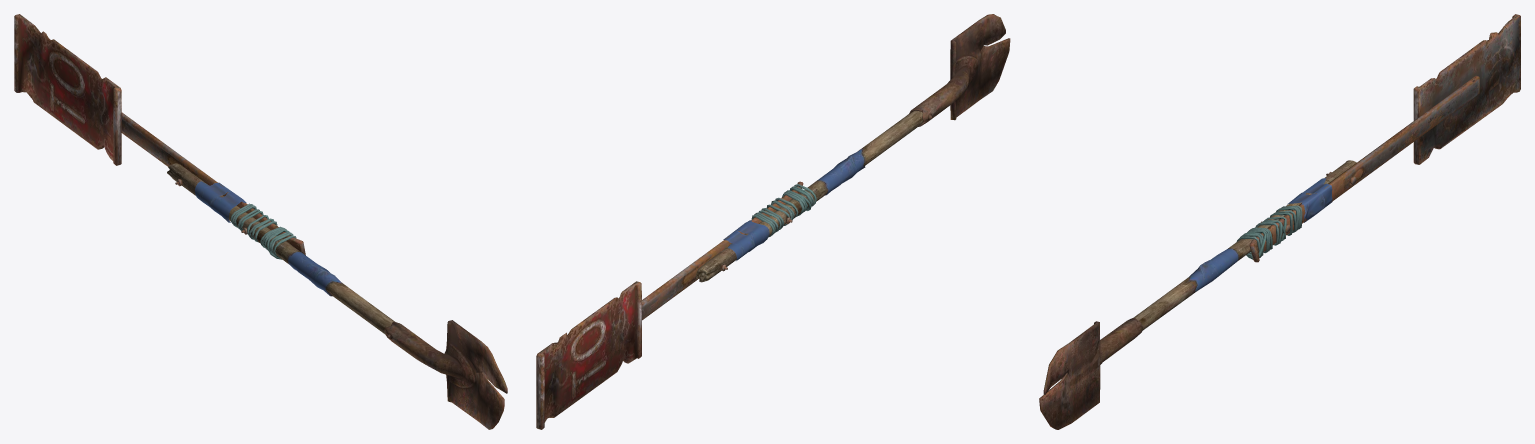
File: paddle.worldmodel.glb
3 renders of one model, left to right at view 1: azimuth 30°, elevation 25°; view 2: azimuth 150°, elevation 25°; view 3: azimuth 330°, elevation 25°, orthographic. The views are drawn at different scales.
Parts seen in each view (by area): view 1: KayakPaddle_LOD0; view 2: KayakPaddle_LOD0; view 3: KayakPaddle_LOD0.
Boxes of the visible parts, x1=… form: KayakPaddle_LOD0: x1=14, y1=14, x2=507, y2=429; KayakPaddle_LOD0: x1=536, y1=14, x2=1010, y2=429; KayakPaddle_LOD0: x1=1039, y1=14, x2=1520, y2=429.
Size of the model in its own units: 0.0885 by 0.2257 by 2.4.
Materials: 1 (1 with a texture image).
